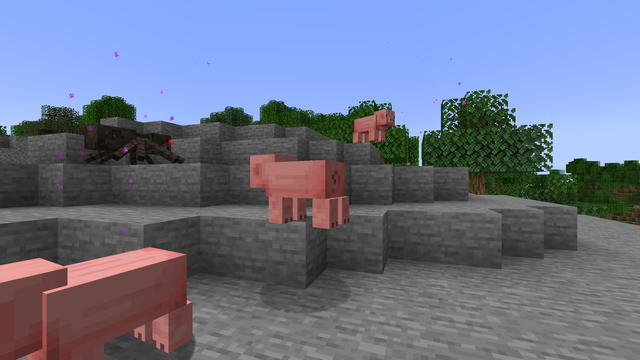araignees: (87, 120, 182, 165)
cochons: (9, 245, 192, 359), (262, 157, 342, 228), (355, 113, 383, 143)
